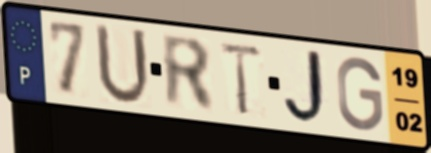7: (47, 19, 89, 100)
G: (334, 54, 386, 134)
J: (281, 47, 333, 128)
R: (158, 31, 219, 116)
T: (218, 39, 265, 118)
U: (92, 19, 153, 109)
